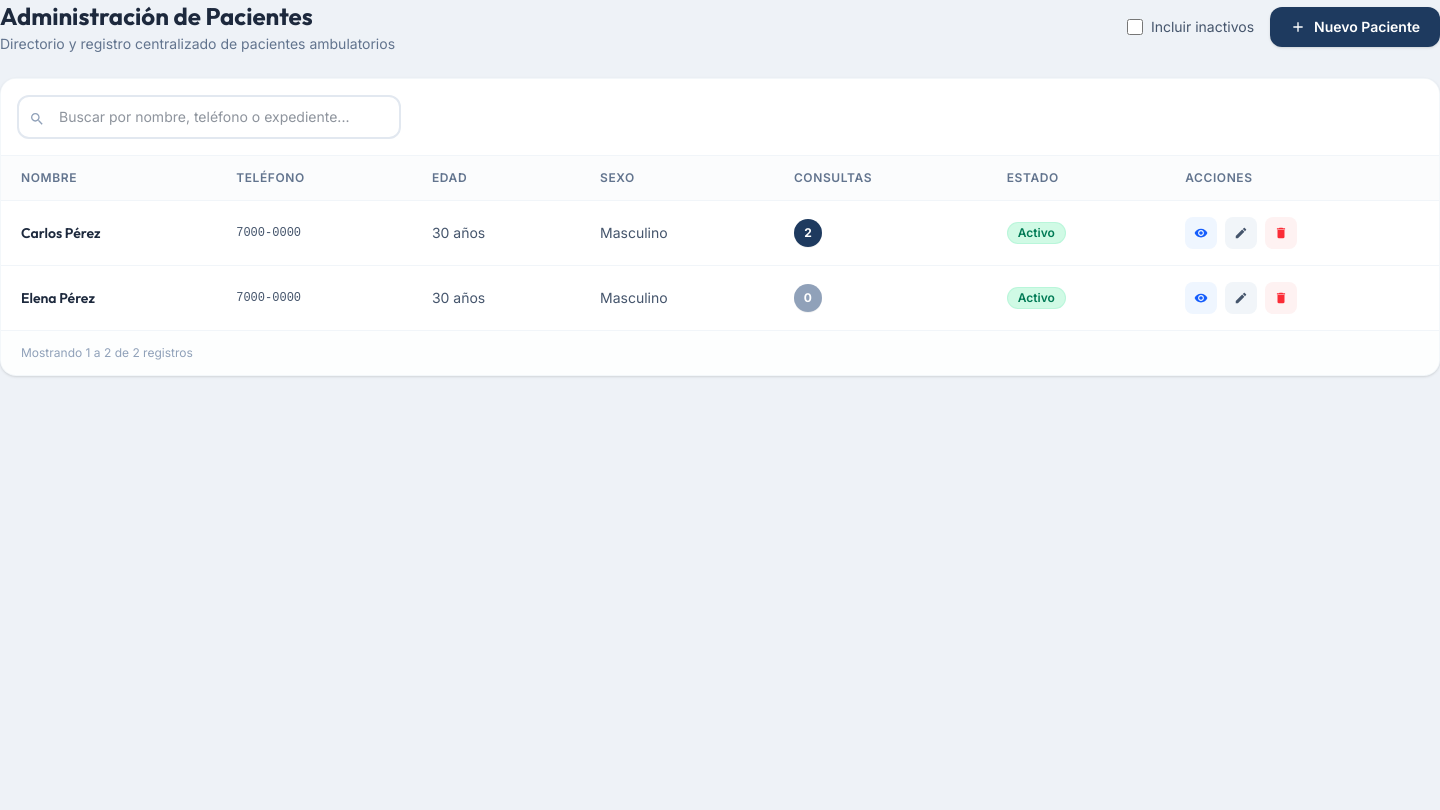
pacientes · confirmación antes de dar de baja › cancelar deja al paciente como estaba
Check: the link "Carlos Pérez" is shown, box [21,224,100,242]
Click the 1st button titled "Desactivar paciente" at point(1281, 233), box [1265,217,1297,249]
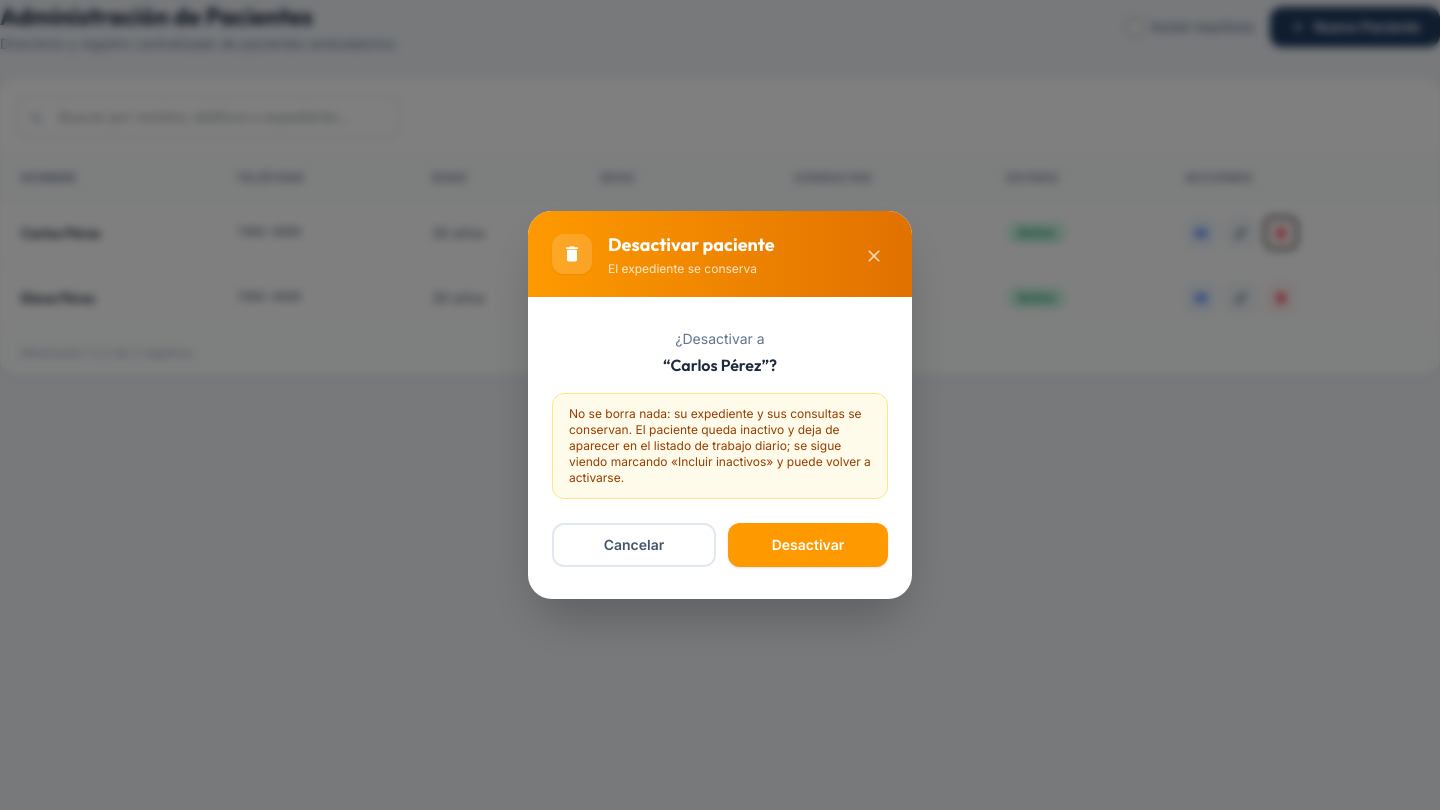
Click the button "Cancelar" at point(634, 545), box [552,523,716,567]
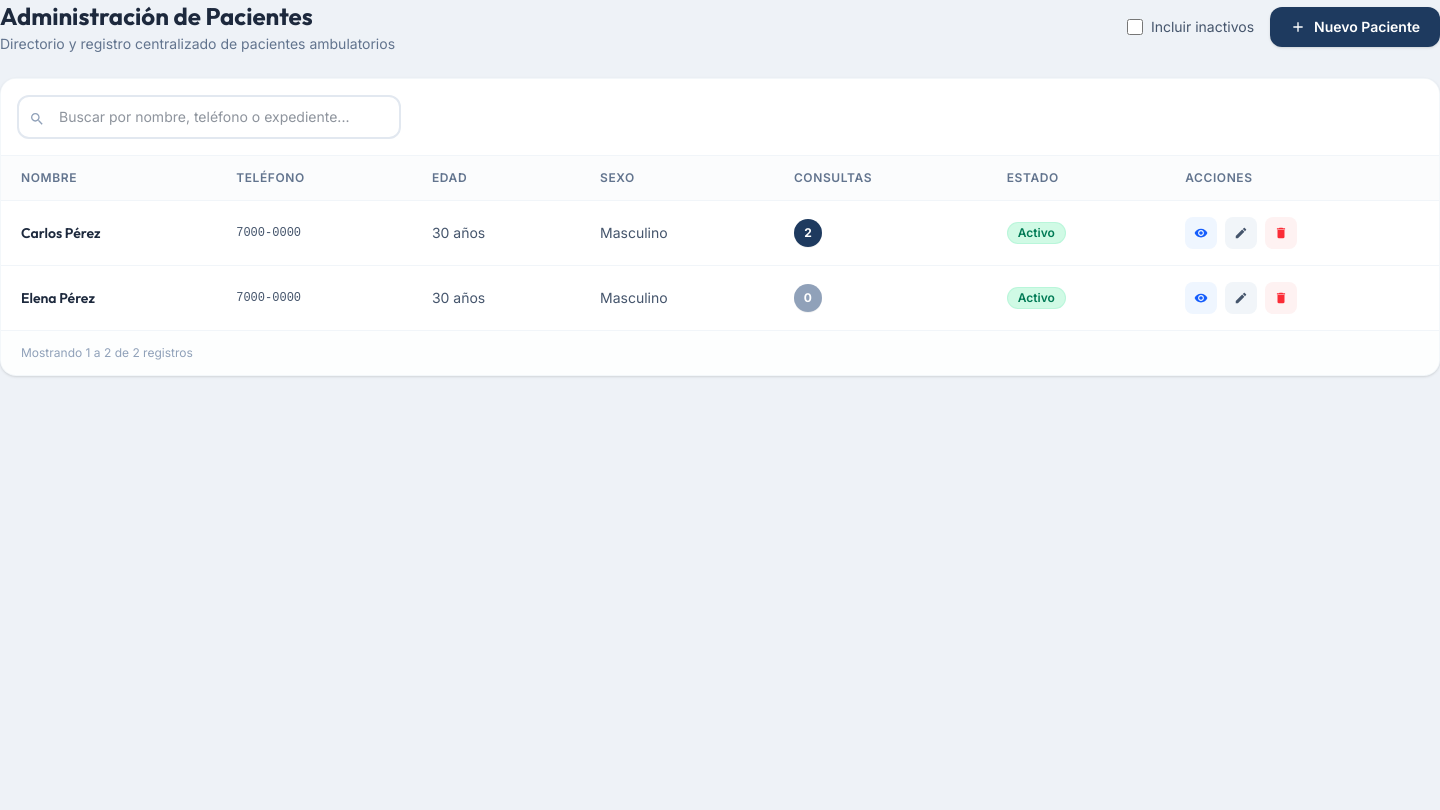
Check: the link "Carlos Pérez" is shown, box [21,224,100,242]
Check: the dialog is gone
